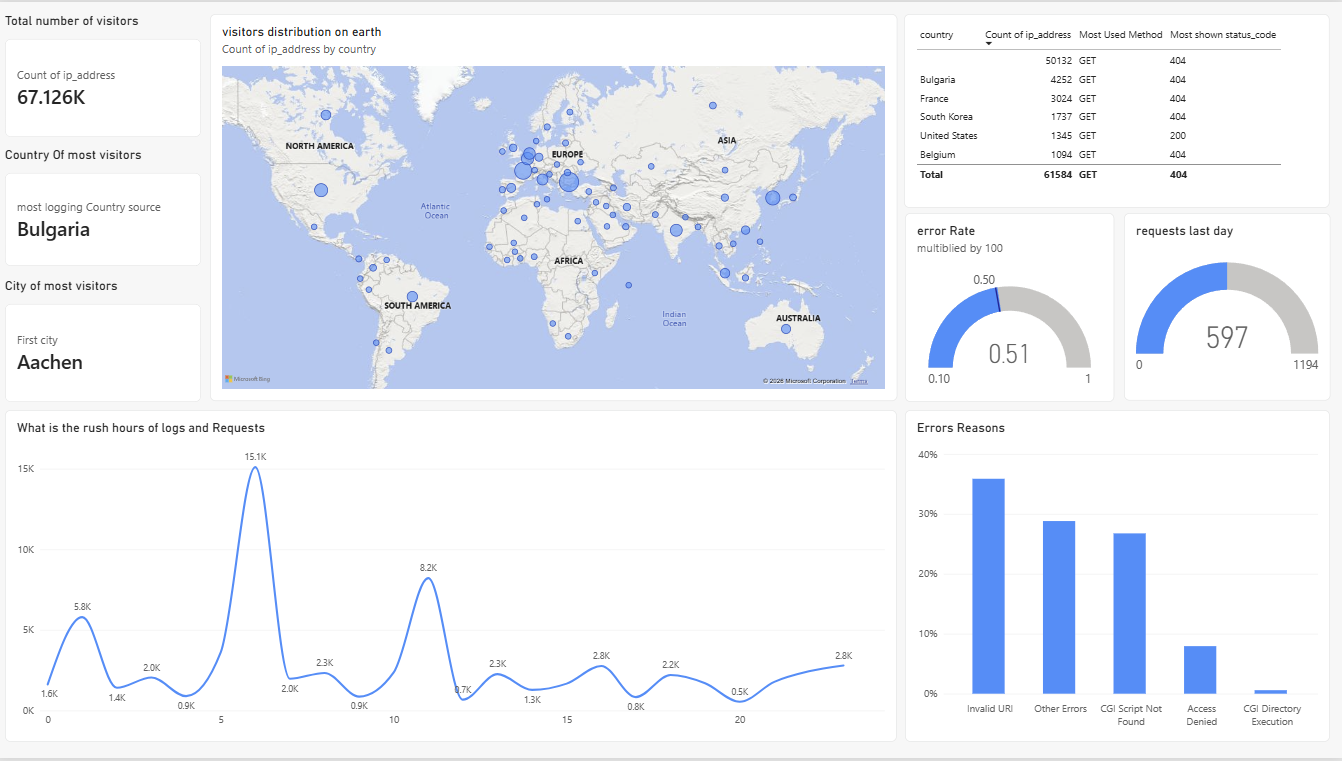

The dashboard page shown, as its layout file describes it:
{"tool":"powerbi","page":{"name":"Final dash","canvas":[1920,1080],"ordinal":0},"visuals":[{"type":"cardVisual","title":"Total number of visitors ","fields":{"Data":["CountNonNull(access_log.ip_address)"]},"box":[10.2,16,280.1,178],"z":0},{"type":"cardVisual","title":"Country Of most visitors","fields":{"Data":["IP_Counts.Second Duplicate Country"]},"box":[10,206.7,280,170],"z":1000},{"type":"map","title":"visitors distribution on earth","fields":{"Category":["location_ip.country","location_ip.city"],"Size":["CountNonNull(access_log.ip_address)"]},"box":[303.3,16.7,981.7,553.3],"z":2000},{"type":"tableEx","fields":{"Values":["location_ip.country","access_log.ip_address","access_log.Most Used Method","access_log.Most shown status_code"]},"box":[1295,16.7,608.3,276.7],"z":3000},{"type":"gauge","title":"error Rate","fields":{"MaxValue":["access_log.maximum error"],"MinValue":["access_log.minimum error"],"TargetValue":["access_log.target error"],"Y":["access_log.Error Rate"]},"box":[1295.6,302,299.1,269.9],"z":4000},{"type":"gauge","title":"requests last day","fields":{"Y":["access_log.Yesterday's IP Count"]},"box":[1609.2,302,294.7,268.4],"z":5000},{"type":"cardVisual","title":"City of most visitors","fields":{"Data":["Min(location_ip.city)"]},"box":[10.2,393.9,280.1,178],"z":6000},{"type":"lineChart","title":"What is the rush hours of logs and Requests","fields":{"Category":["access_log.Hour"],"Y":["CountNonNull(access_log.ip_address)"]},"box":[10,582.9,1274.3,474.3],"z":7000},{"type":"columnChart","title":"Errors Reasons","fields":{"Category":["error_log.Error Category"],"Y":["CountNonNull(error_log.ip_address)"]},"box":[1295.7,582.9,607.1,474.3],"z":8000}]}

Visuals, with their boxes in screenshot pixels (x1, y1, x2, y2), scaled from the page's 1920x1080 canvas onto the 1342x761 screenshot:
"Total number of visitors " cardVisual: 7 11 203 137
"Country Of most visitors" cardVisual: 7 146 203 265
"visitors distribution on earth" map: 212 12 898 402
tableEx - location_ip.country x access_log.ip_address: 905 12 1330 207
"error Rate" gauge: 906 213 1115 403
"requests last day" gauge: 1125 213 1331 402
"City of most visitors" cardVisual: 7 278 203 403
"What is the rush hours of logs and Requests" lineChart: 7 411 898 745
"Errors Reasons" columnChart: 906 411 1330 745
